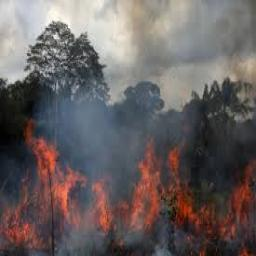Low smoke: (24, 0, 256, 186)
Small fire: (0, 126, 255, 250)
